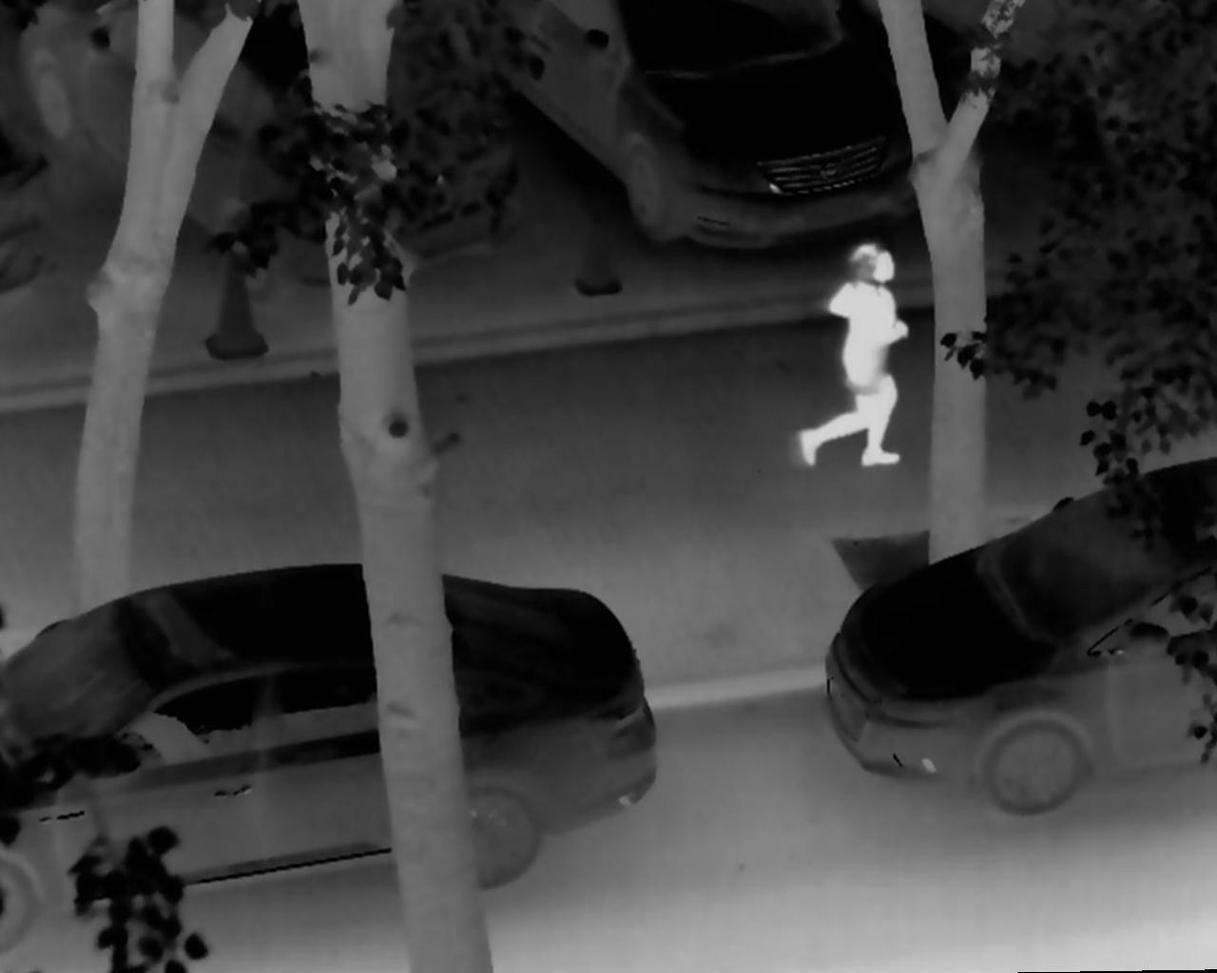person: (790, 235, 915, 474)
